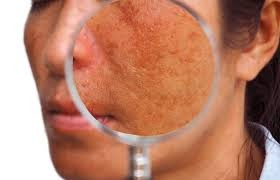Melasma: (92, 0, 186, 4)
